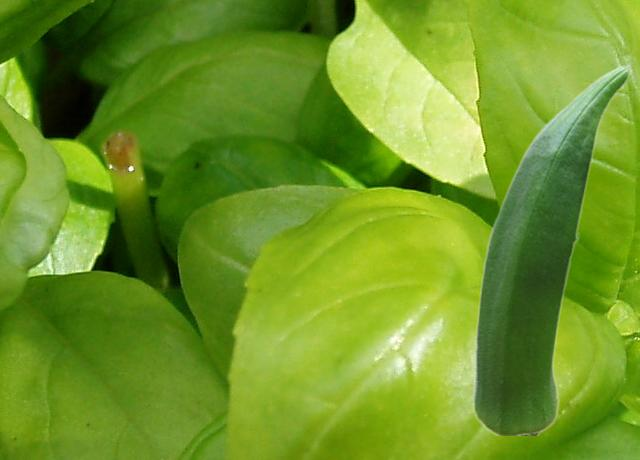okra: (471, 64, 631, 434)
